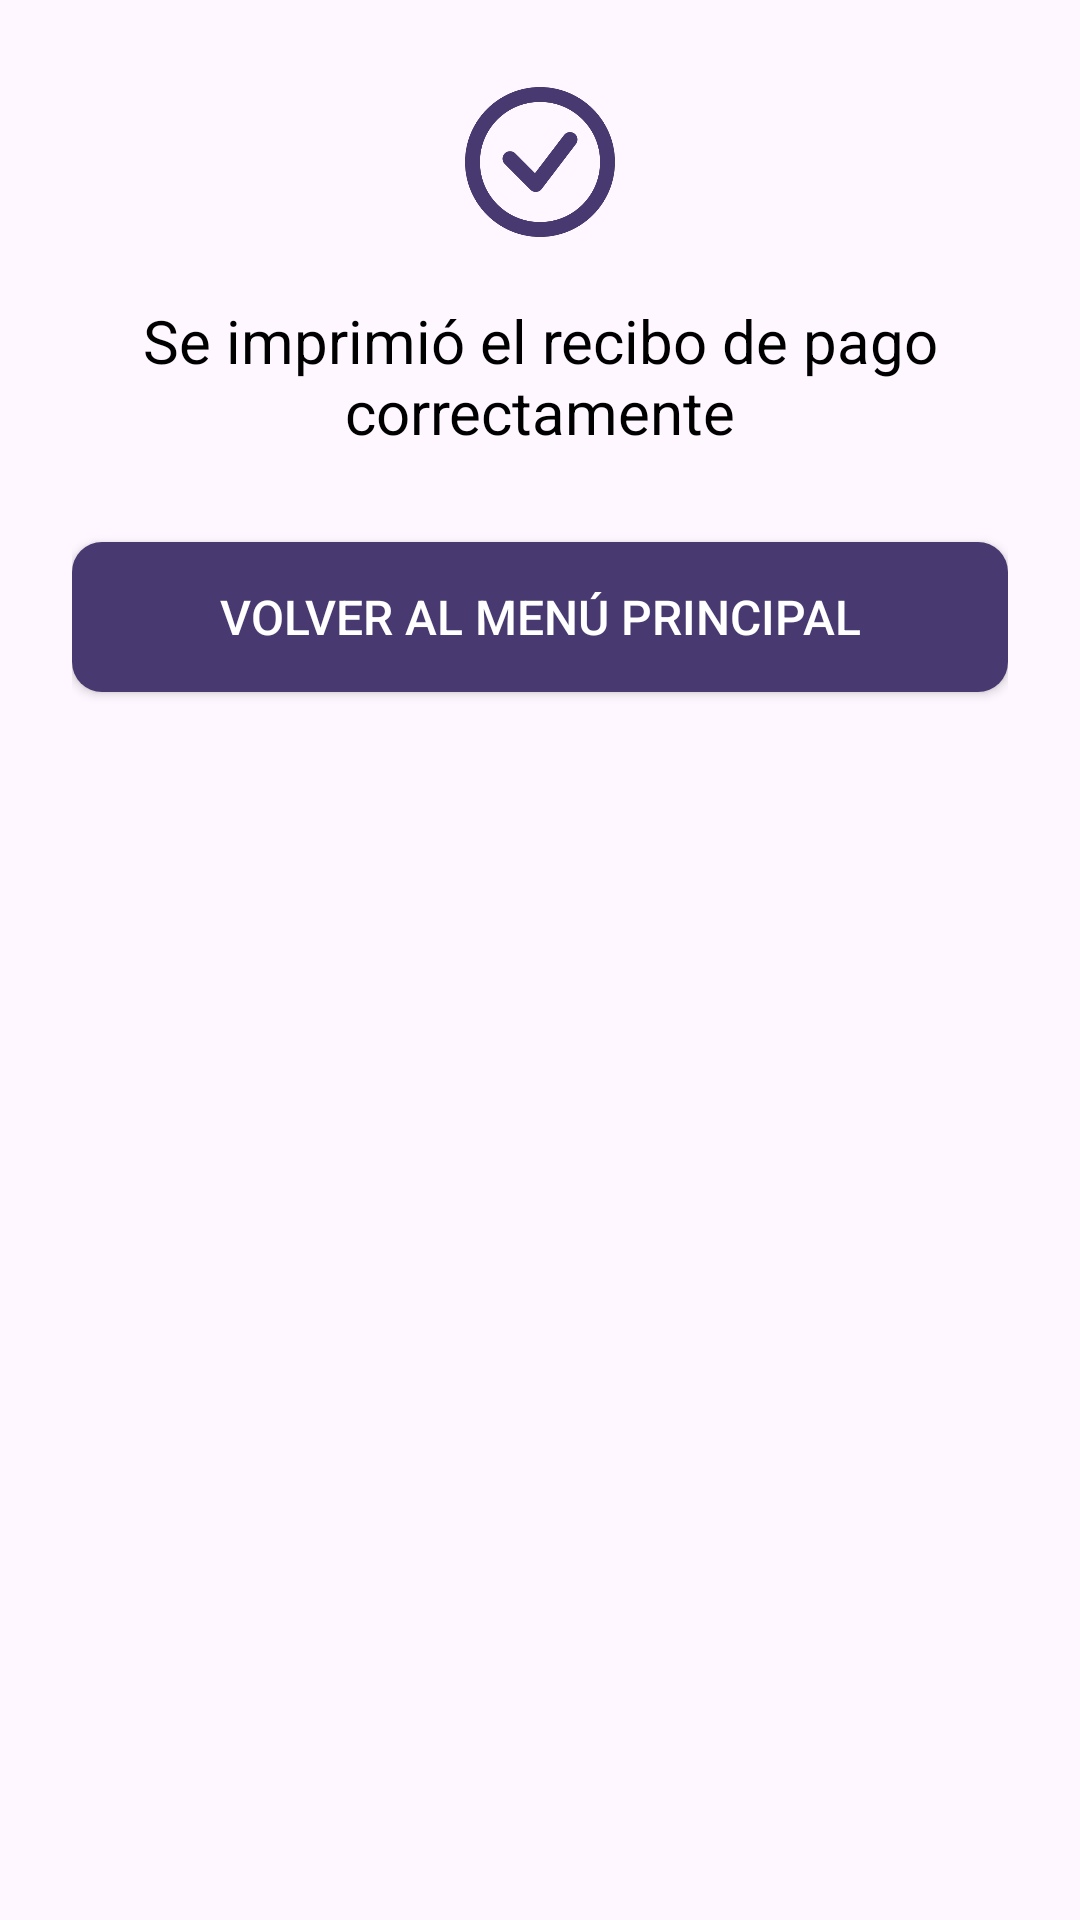

Where icons sit on this 1080w x 1920h app screen, as (x1, y1, x2, y2):
Icono de confirmación: (465, 87, 615, 237)
